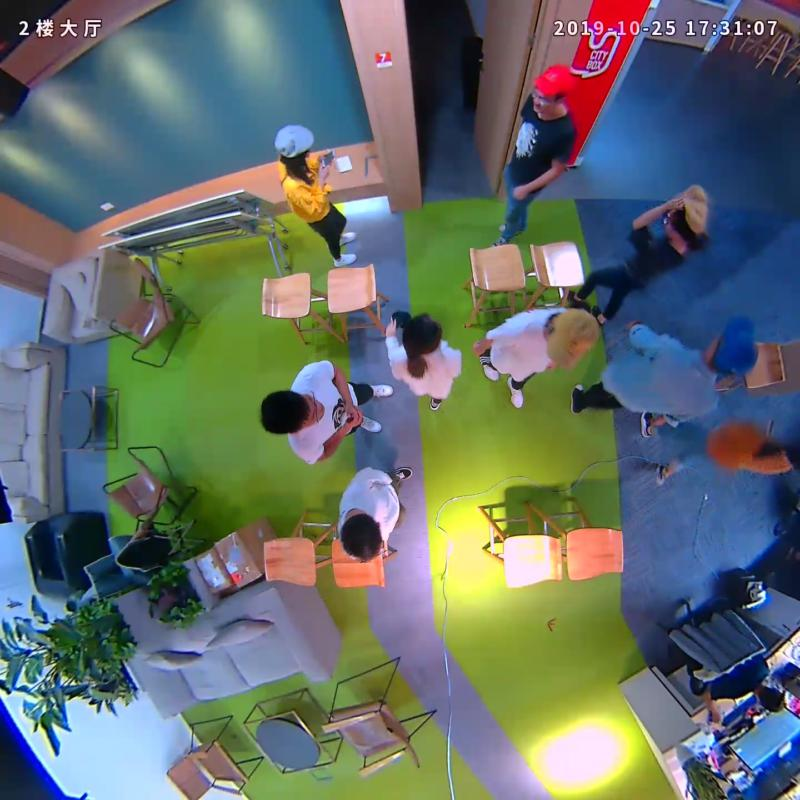head: (543, 307, 598, 370), (707, 315, 759, 376), (259, 389, 325, 434), (664, 183, 708, 240), (531, 64, 574, 115), (340, 511, 382, 562), (402, 313, 442, 356), (273, 123, 315, 162)
